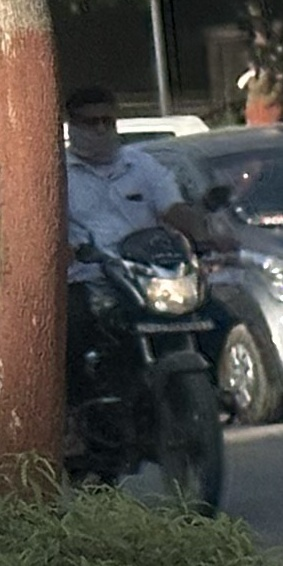BikeWithRider: (64, 85, 251, 533)
NoHelmet: (70, 85, 125, 170)
